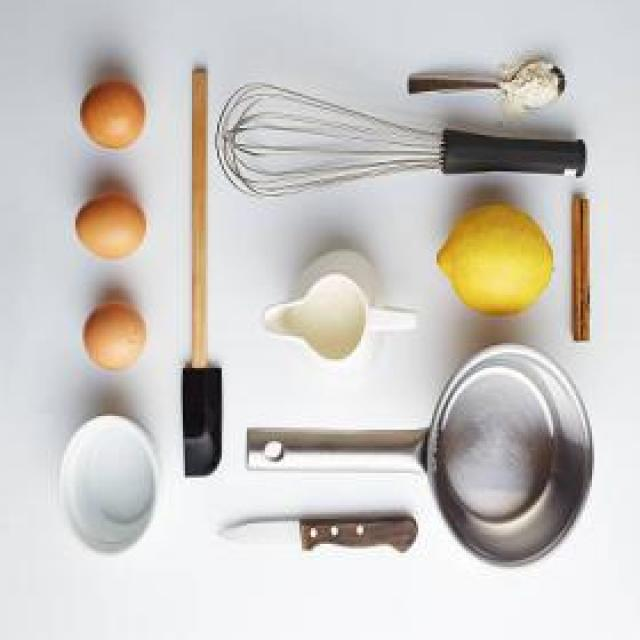knife: (220, 514, 418, 551)
